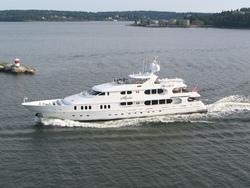yacht: (23, 60, 207, 121)
